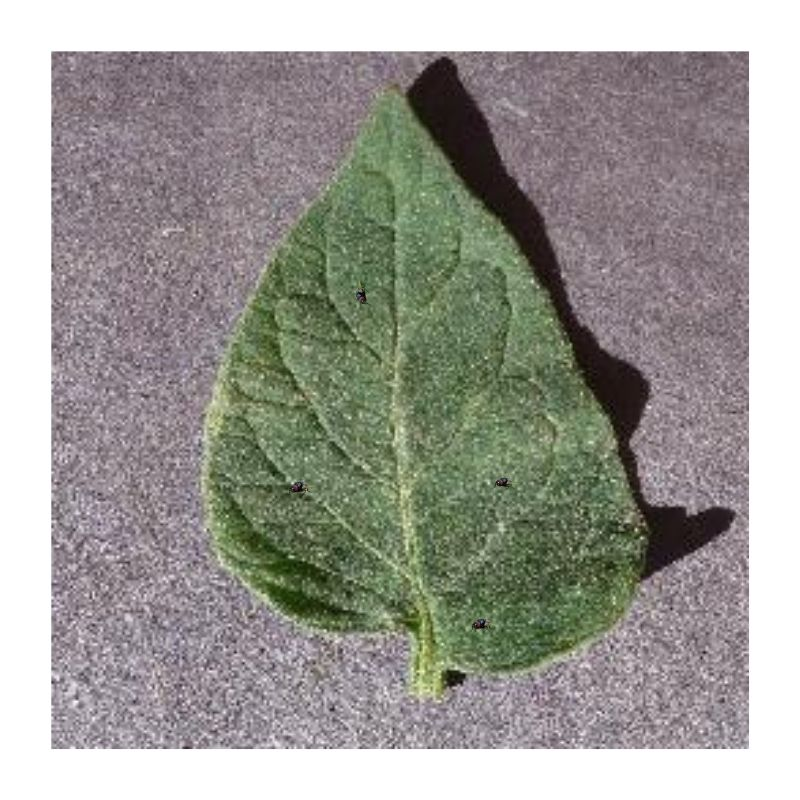liriomyza: (284, 477, 316, 493), (467, 615, 495, 630), (489, 475, 516, 489), (353, 282, 370, 304)
